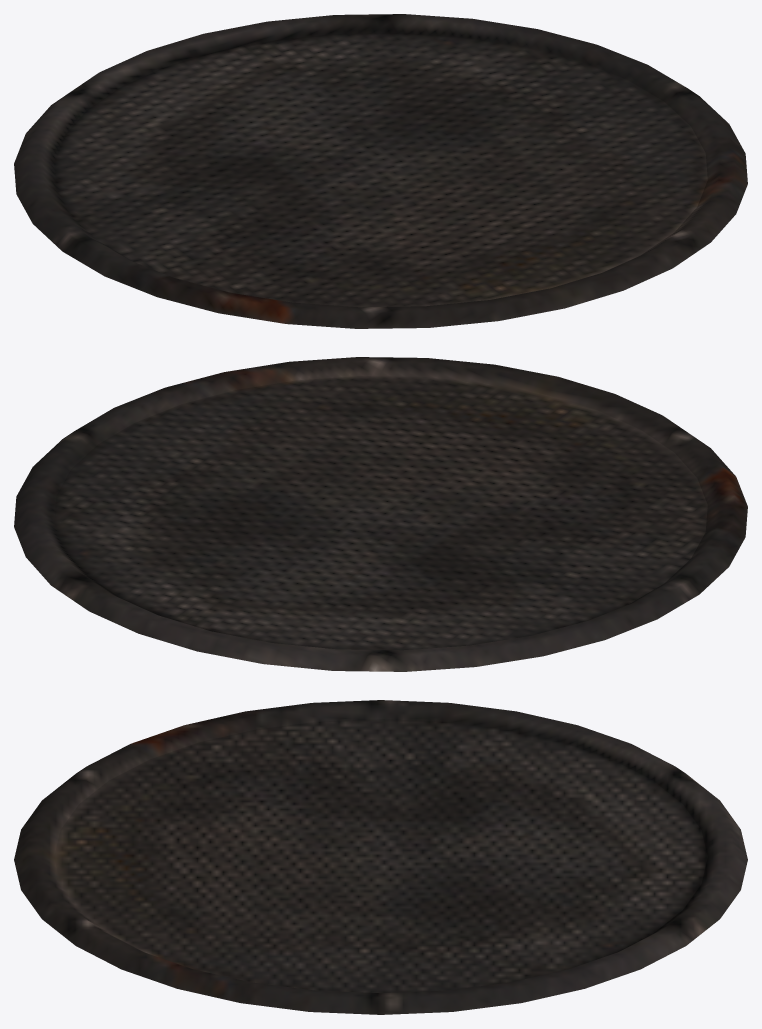
File: drain_cover_2.obj
The picture shows the model from 3 angles, top to bottom: view 1: azimuth 30°, elevation 25°; view 2: azimuth 150°, elevation 25°; view 3: azimuth 270°, elevation 25°; orthographic projection.
Parts seen in each view (by area): view 1: drain_cover_2; view 2: drain_cover_2; view 3: drain_cover_2.
Boxes of the visible parts, left/top/right/bottom form: drain_cover_2: left=14, top=14, right=747, bottom=328; drain_cover_2: left=14, top=357, right=747, bottom=671; drain_cover_2: left=14, top=700, right=747, bottom=1014.
Size of the model in its own units: 0.6 by 0.00915 by 0.6.
